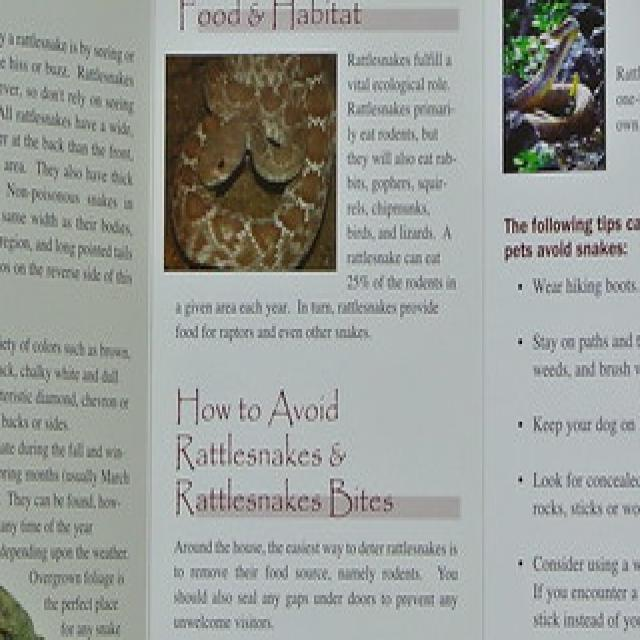snake: (168, 48, 334, 269)
